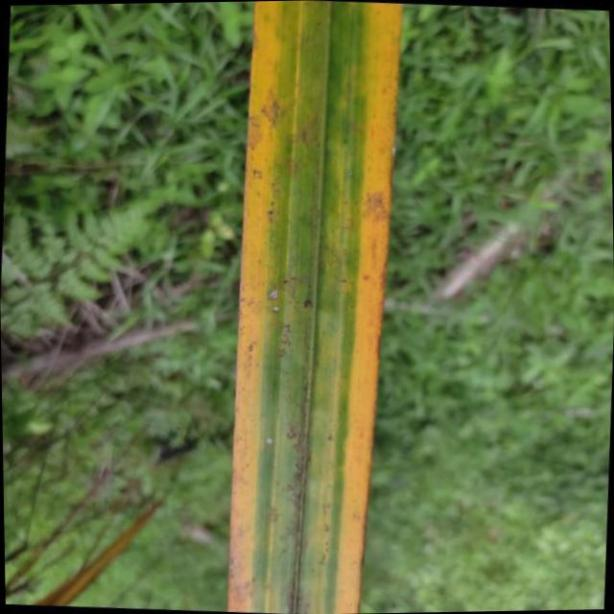Megnesium: (227, 0, 400, 614)
